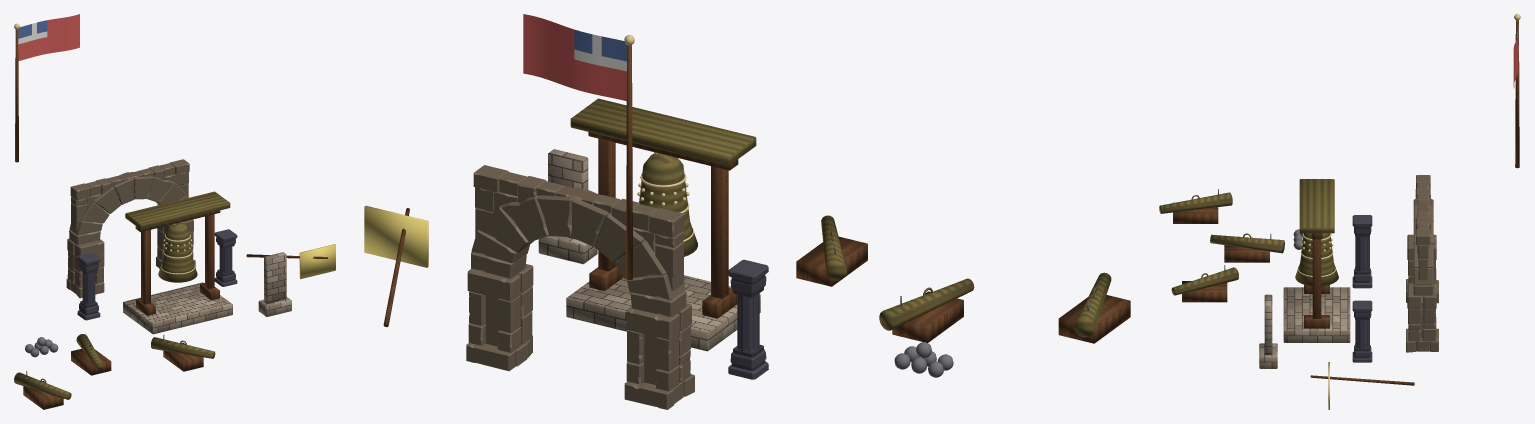
The model's file is humen-fall-memorial.glb.
The picture shows the model from 3 angles, left to right: view 1: azimuth 30°, elevation 25°; view 2: azimuth 150°, elevation 25°; view 3: azimuth 270°, elevation 25°; orthographic projection. The views are drawn at different scales.
Visible parts, largest first — view 1: BellFrame, MemorialArch, CapturedArtillery_Guns, FlagCloth_Mesh, BellBody_Bronze, MemorialStele, Memorial_Col_L, FallenStandard_Banner, Memorial_Col_R, UnionFlagPole_Mast; view 2: MemorialArch, BellFrame, CapturedArtillery_Guns, FlagCloth_Mesh, FallenStandard_Banner, Memorial_Col_L, BellBody_Bronze, MemorialStele, UnionFlagPole_Mast; view 3: BellFrame, MemorialArch, CapturedArtillery_Guns, BellBody_Bronze, Memorial_Col_L, Memorial_Col_R, MemorialStele, UnionFlagPole_Mast, FallenStandard_Banner.
Boxes of the visible parts, x1,y1,x2,y2 form: BellFrame: (123,191,232,334); MemorialArch: (66,159,195,298); CapturedArtillery_Guns: (14,333,215,409); FlagCloth_Mesh: (18,14,79,60); BellBody_Bronze: (158,222,197,282); MemorialStele: (258,252,291,316); Memorial_Col_L: (77,252,100,320); FallenStandard_Banner: (246,244,335,279); Memorial_Col_R: (214,229,237,286); UnionFlagPole_Mast: (14,23,19,162); MemorialArch: (466,165,694,409); BellFrame: (566,98,760,351); CapturedArtillery_Guns: (796,215,1130,377); FlagCloth_Mesh: (523,14,626,100); FallenStandard_Banner: (364,205,428,327); Memorial_Col_L: (728,259,768,379); BellBody_Bronze: (637,152,697,256); MemorialStele: (538,149,597,264); UnionFlagPole_Mast: (624,35,634,280); BellFrame: (1283,179,1350,342); MemorialArch: (1406,175,1438,352); CapturedArtillery_Guns: (1159,189,1303,302); BellBody_Bronze: (1295,233,1338,286); Memorial_Col_L: (1352,215,1372,288); Memorial_Col_R: (1352,300,1372,362); MemorialStele: (1259,294,1277,368); UnionFlagPole_Mast: (1514,14,1520,168); FallenStandard_Banner: (1310,362,1414,409).
Size of the model in its own units: 15.52 by 9.86 by 11.91.
Materials: 16 (3 with a texture image).
